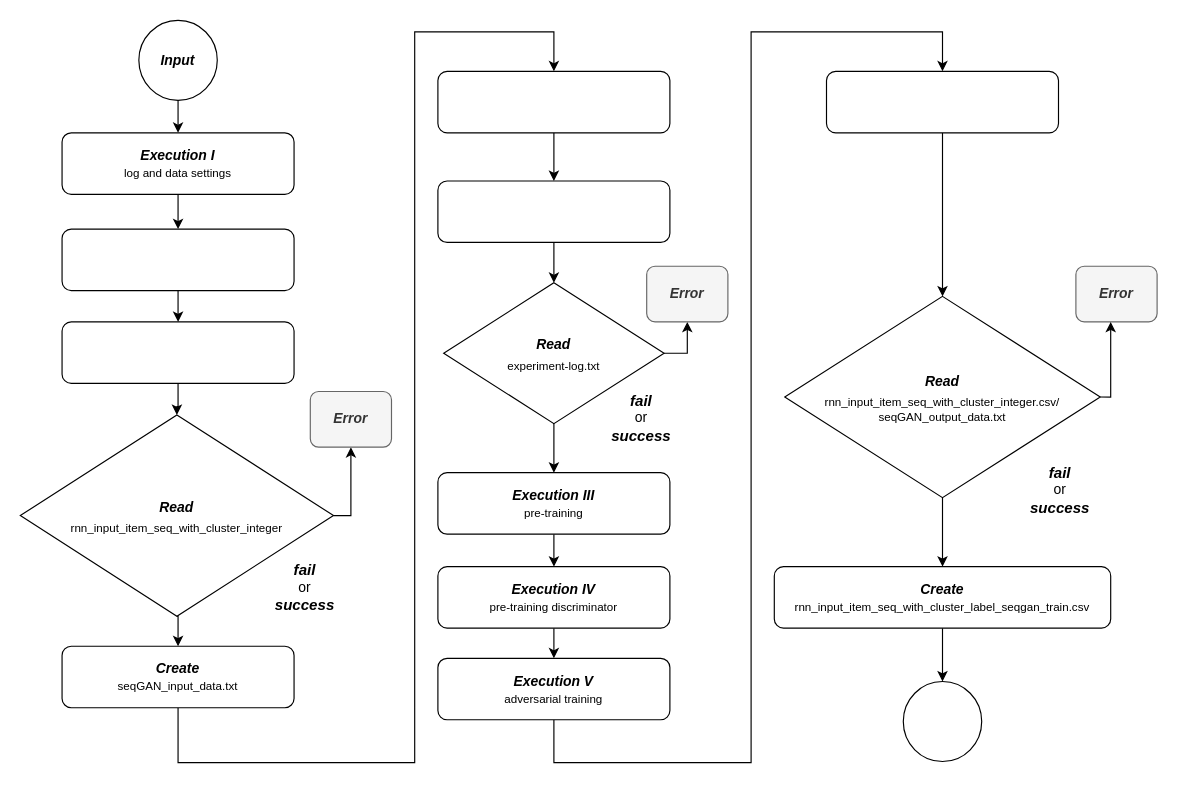
Image size: 1177x792. Some labels were removed from this diagram. Here are the shapes that lost their labels. From the top down, the centre of each, then its label:
point 553,101: Execution II sequence_gan
point 941,101: Execution VI clustering_sequence_gan_output
point 553,211: Create positive/negative/eval files
point 177,259: Create Folder for rnn/seqgan files
point 177,352: Create seqgan input files
point 942,721: Output
